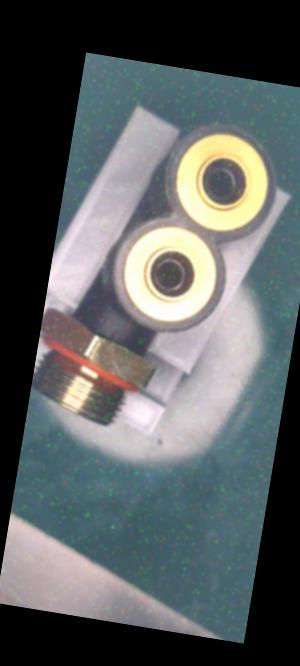craze: (107, 327, 119, 341)
